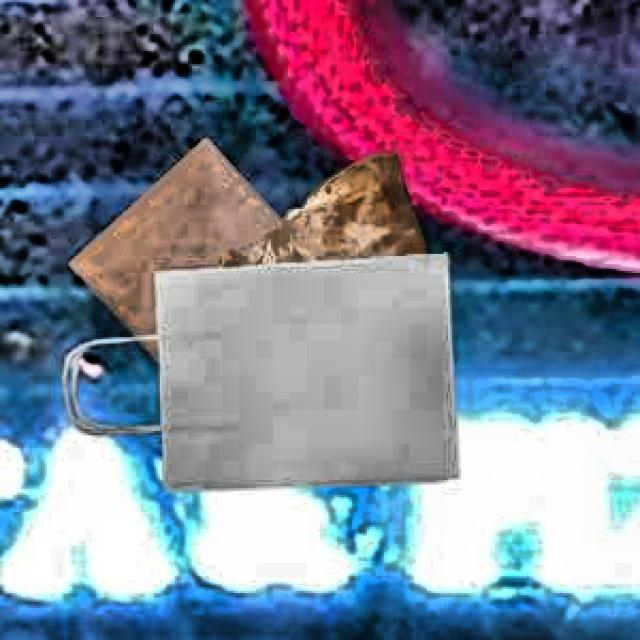Paper-bag: (34, 247, 494, 524), (56, 128, 359, 410), (208, 150, 459, 362)
